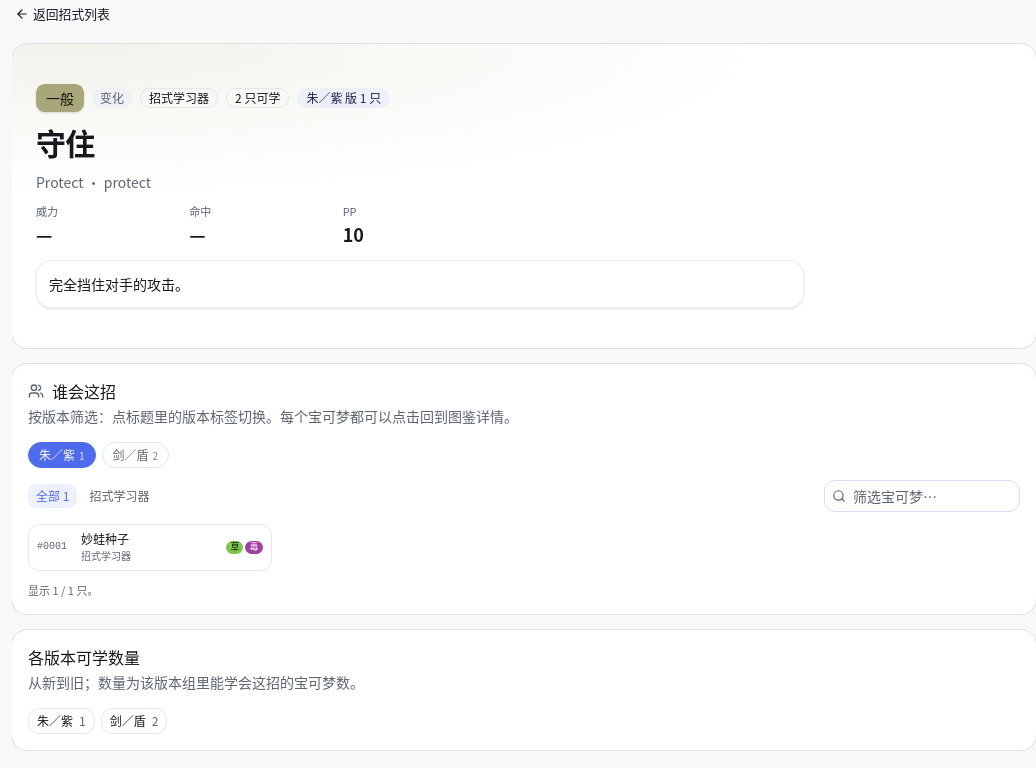
Test: MoveDetailPage › 切换到剑盾后展示该版本的学习者与方式
This screenshot has width=1036, height=768.
版本标签在「谁会这招」与「各版本可学数量」各出现一次，取第一个
Click the button "剑／盾 2" below "按版本筛选：点标题里的版本标签切换。每个宝可梦都可以点击回到图鉴详情。" at (135, 456), box [102,442,169,468]
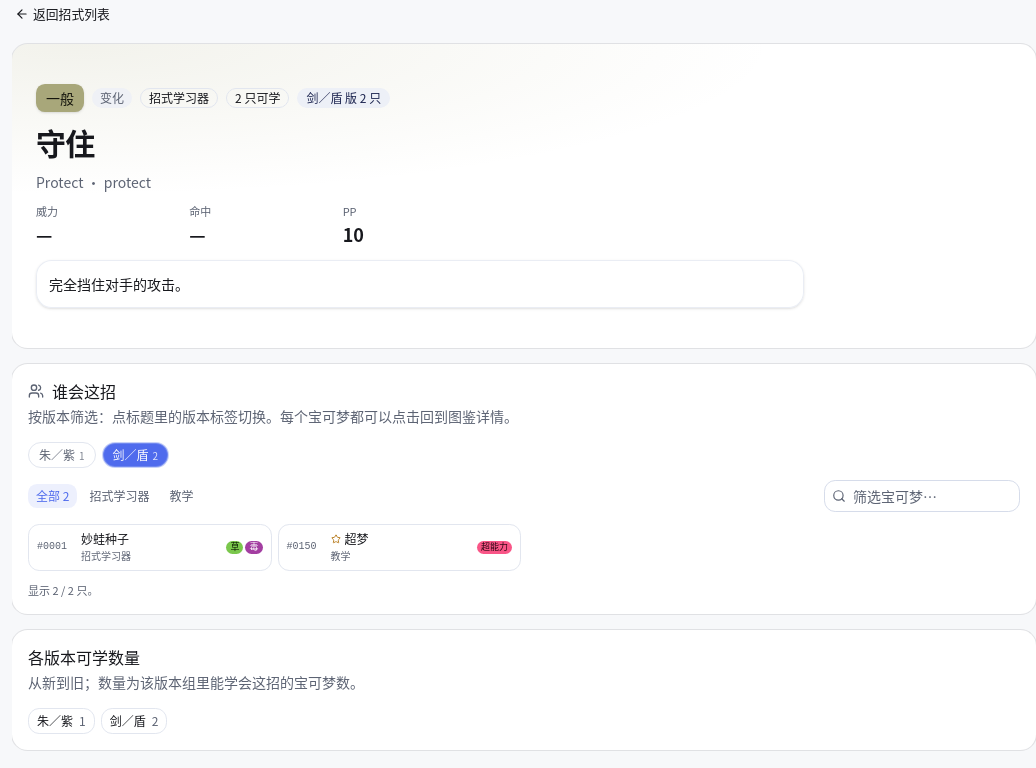
Expected: the button "教学" is shown, [161,484,201,508]
